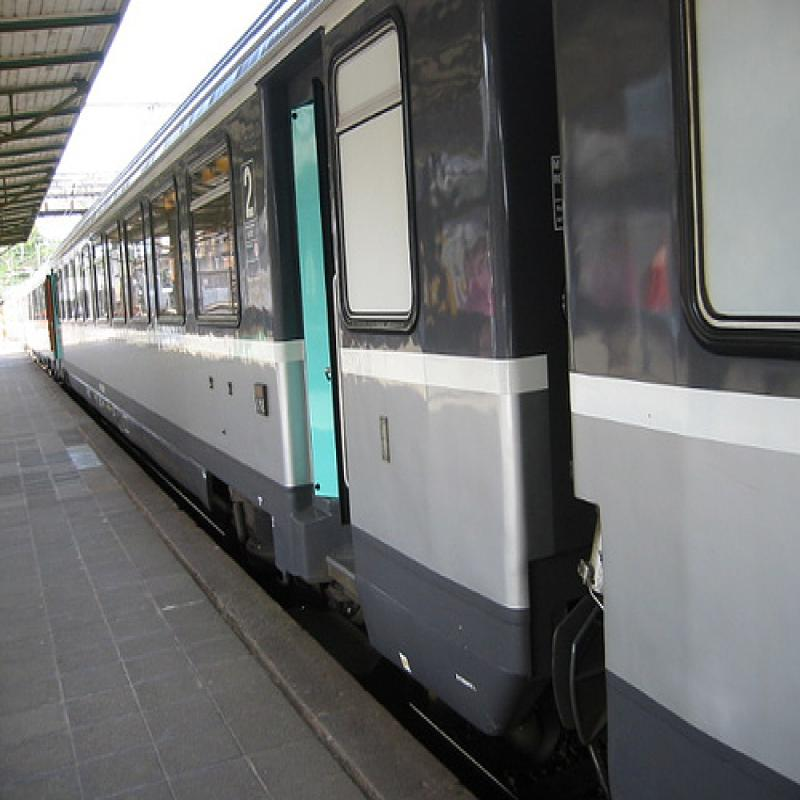train: (5, 1, 800, 799)
